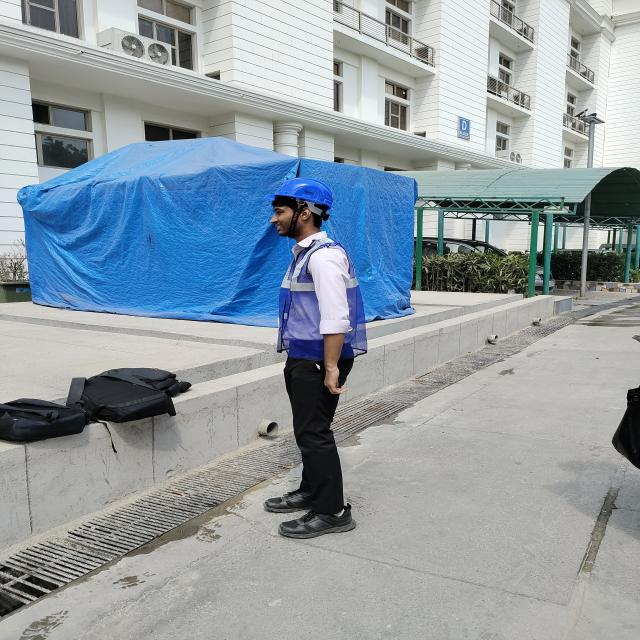safe: (270, 177, 368, 538)
